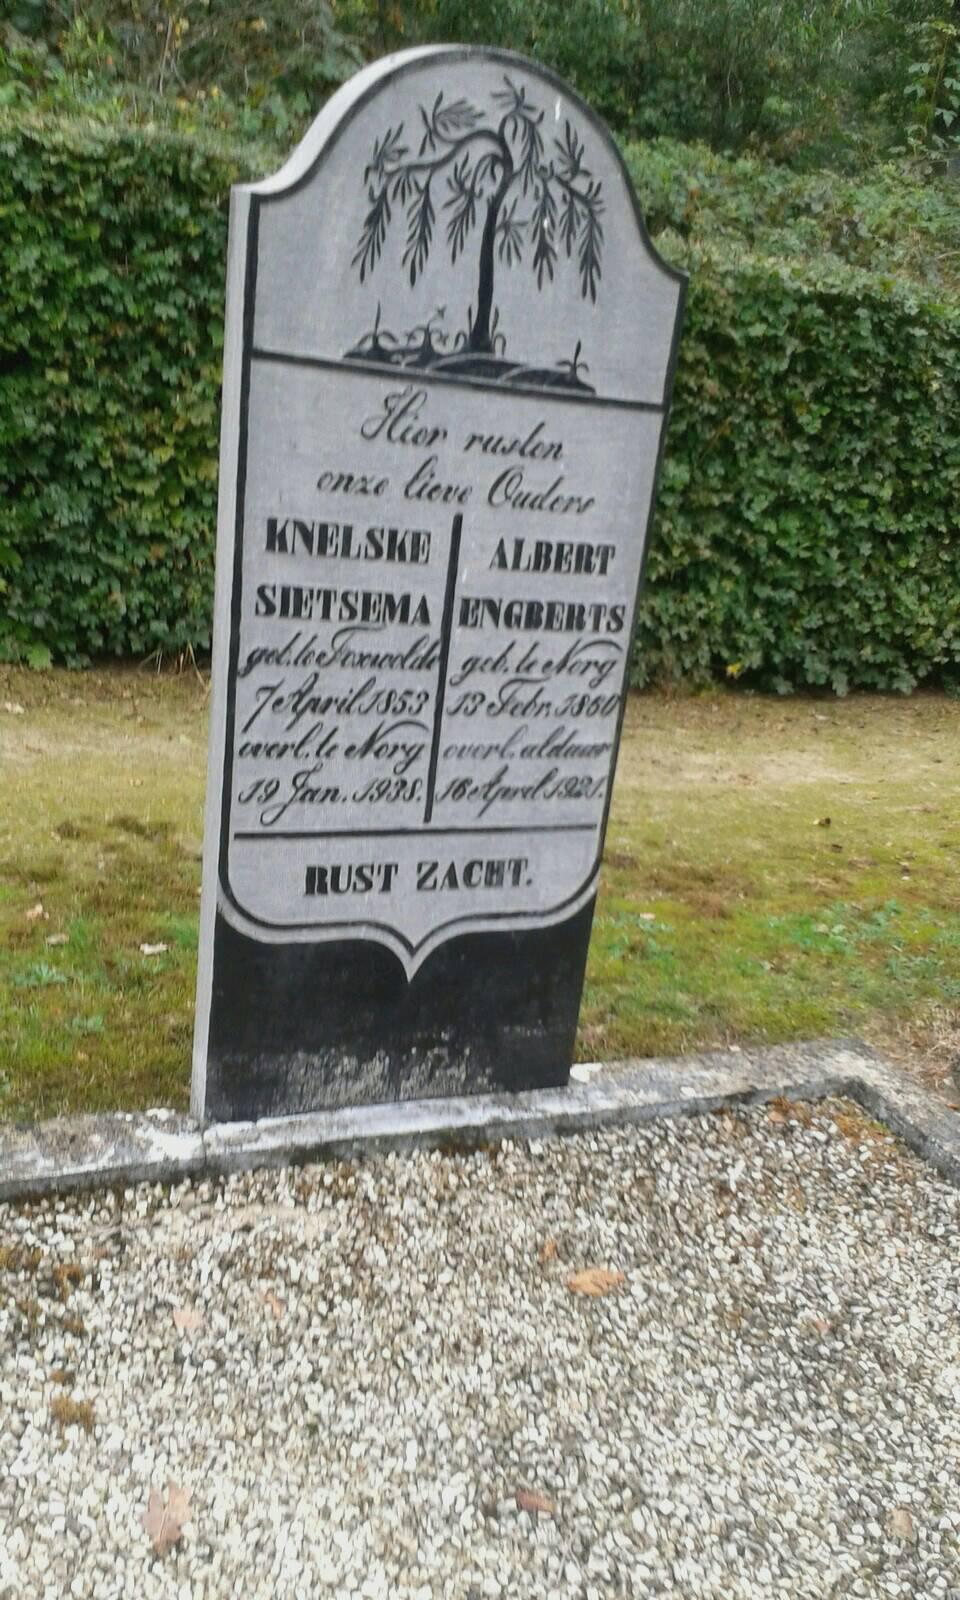upright: (190, 42, 683, 1131)
